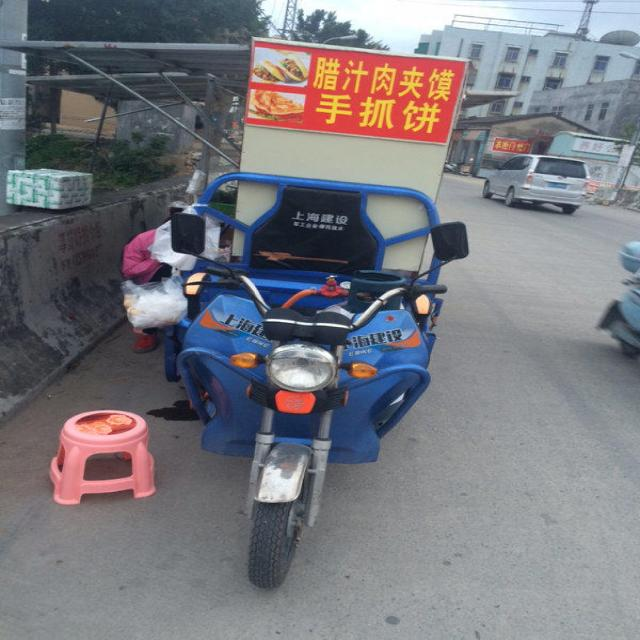car: (480, 152, 591, 213)
motorbike: (597, 240, 639, 360)
tricycle: (160, 170, 467, 587)
